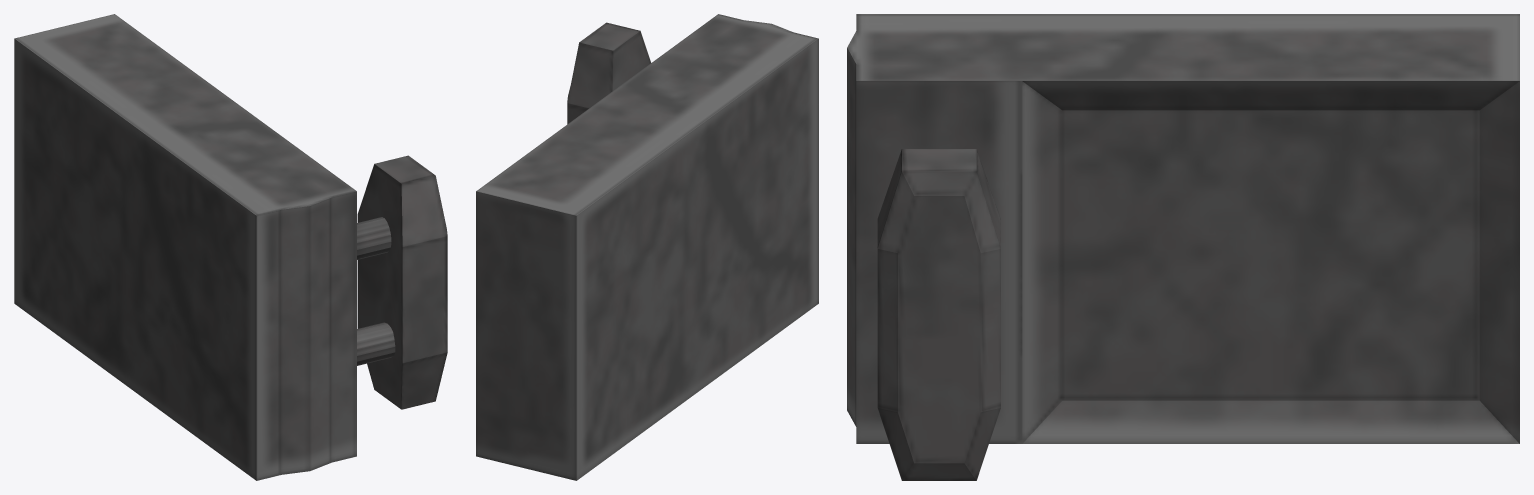
Rendered from JudasOnly.fbx.
The picture shows the model from 3 angles, left to right: view 1: azimuth 30°, elevation 25°; view 2: azimuth 150°, elevation 25°; view 3: azimuth 270°, elevation 25°; orthographic projection. The views are drawn at different scales.
Parts seen in each view (by area): view 1: Judas; view 2: Judas; view 3: Judas.
Part boxes in pixels (x1=…): Judas: x1=14, y1=14, x2=447, y2=480; Judas: x1=476, y1=14, x2=818, y2=480; Judas: x1=847, y1=14, x2=1519, y2=480.
Size of the model in its own units: 45.02 by 55.5 by 93.21.
